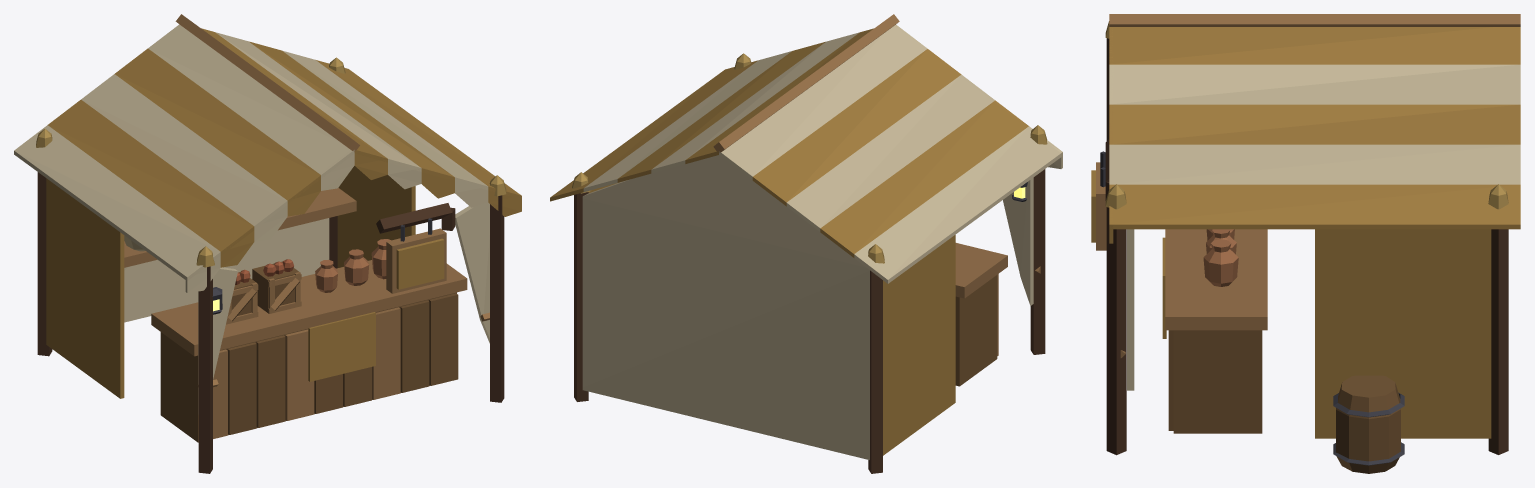
Rendered from town_merchant_a.glb.
The picture shows the model from 3 angles, left to right: view 1: azimuth 30°, elevation 25°; view 2: azimuth 150°, elevation 25°; view 3: azimuth 270°, elevation 25°; orthographic projection. The views are drawn at different scales.
Parts seen in each view (by area): view 1: town_merchant_a; view 2: town_merchant_a; view 3: town_merchant_a.
Part boxes in pixels (x1,y1,x2,y2): town_merchant_a: [14, 14, 521, 473]; town_merchant_a: [550, 14, 1062, 473]; town_merchant_a: [1091, 14, 1520, 473].
Size of the model in its own units: 3.33 by 2.63 by 2.9.
